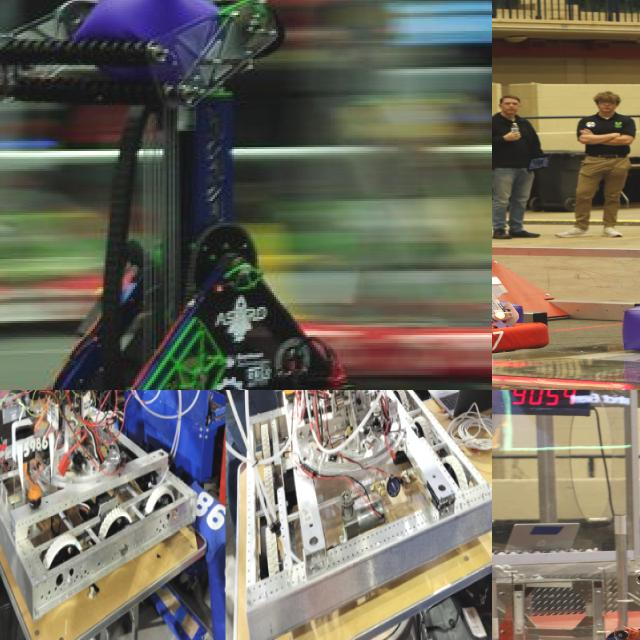FRC-Robots: (0, 0, 492, 390), (209, 390, 492, 640), (0, 390, 201, 640), (492, 51, 559, 367), (492, 575, 640, 640)
